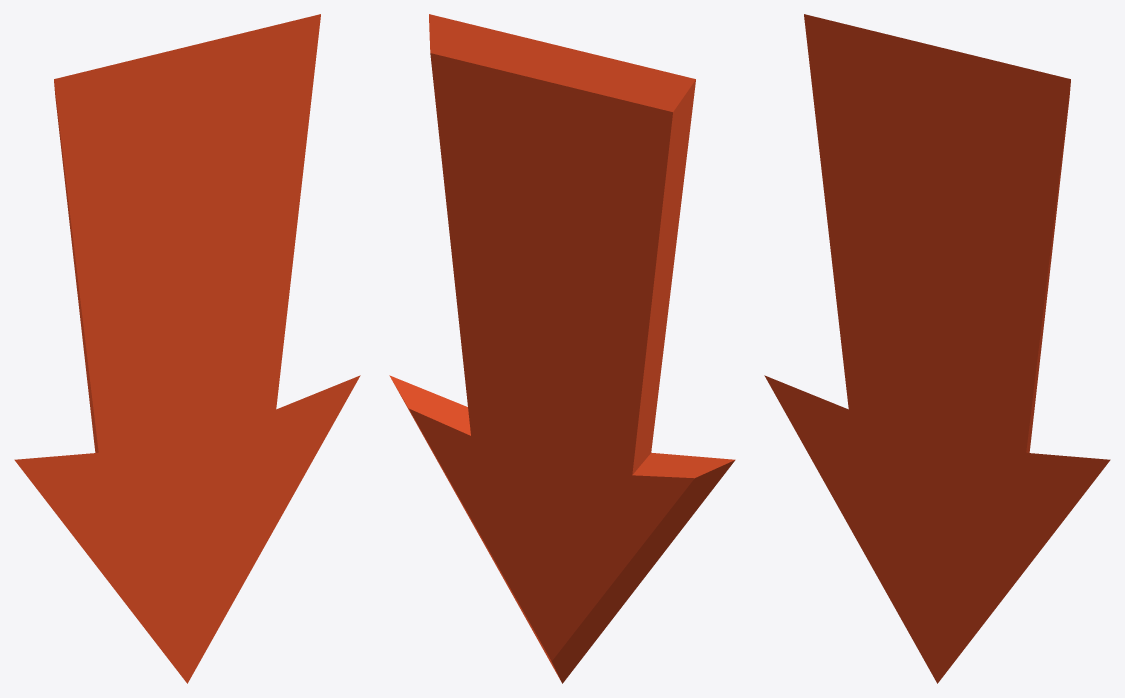
Rendered from Arrow 3.fbx.
3 views of the same model, side by side, from view 1: azimuth 30°, elevation 25°; view 2: azimuth 150°, elevation 25°; view 3: azimuth 330°, elevation 25° (orthographic).
Visible parts, largest first — view 1: Arrow; view 2: Arrow; view 3: Arrow.
Part boxes in pixels (left/top/right/bottom): Arrow: left=14, top=14, right=360, bottom=683; Arrow: left=389, top=14, right=735, bottom=683; Arrow: left=764, top=14, right=1110, bottom=683.
Bounding box in the file's own units: 50.05 × 87.97 × 2.7.
